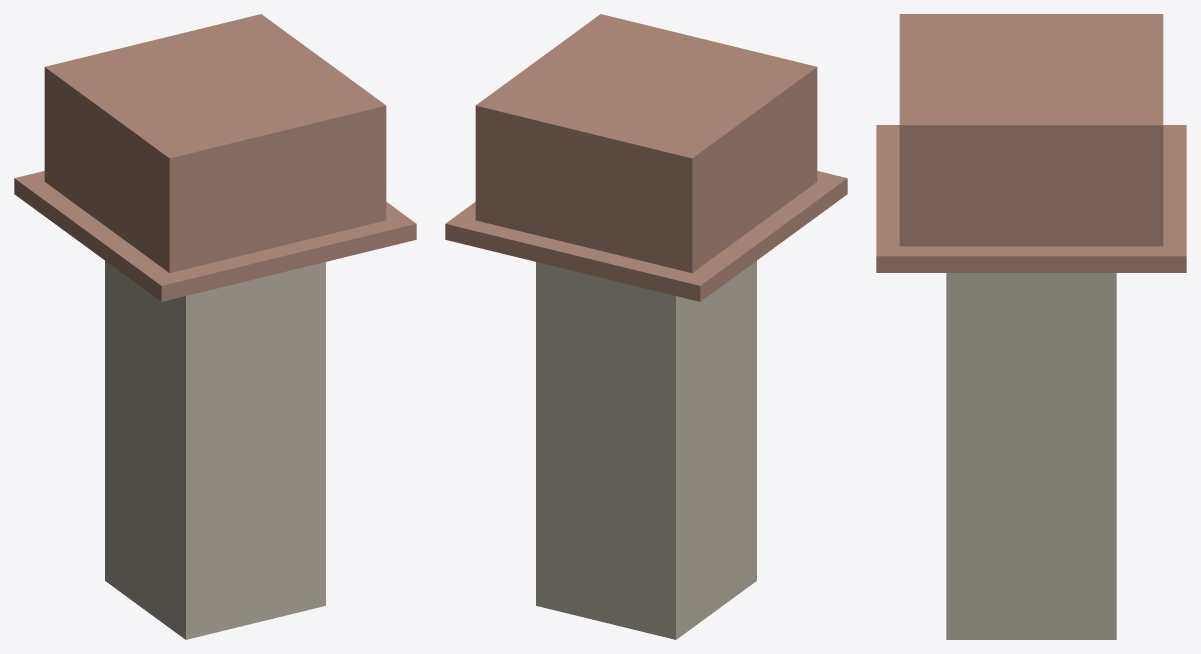
Rendered from iz3_military_watchtower_01.glb.
3 views of the same model, side by side, from view 1: azimuth 30°, elevation 25°; view 2: azimuth 150°, elevation 25°; view 3: azimuth 270°, elevation 25° (orthographic). The views are drawn at different scales.
Visible parts, largest first — view 1: shaft, crown, balcony; view 2: shaft, crown, balcony; view 3: shaft, crown, balcony.
Boxes of the visible parts, x1,y1,x2,y2 form: shaft: (105, 261, 325, 639); crown: (44, 14, 386, 272); balcony: (14, 171, 416, 301); shaft: (536, 261, 756, 639); crown: (475, 14, 817, 272); balcony: (445, 171, 847, 301); shaft: (946, 273, 1116, 639); crown: (899, 14, 1163, 246); balcony: (876, 125, 1186, 272).
Size of the model in its own units: 3 by 5.7 by 3.
